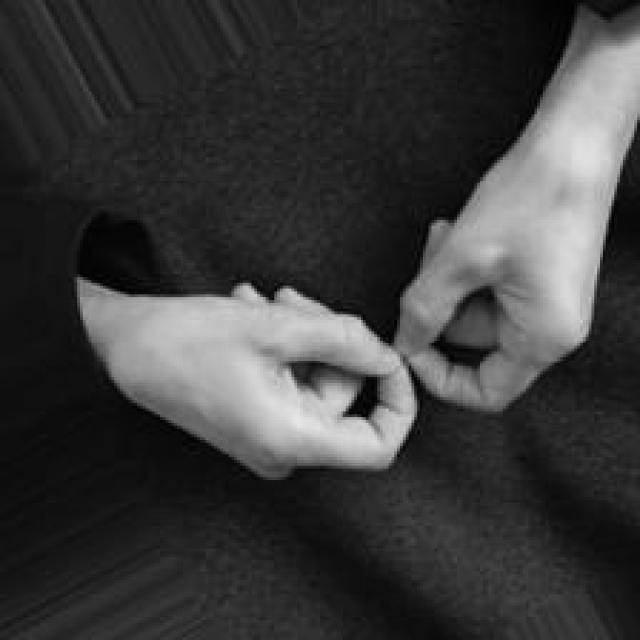B: (134, 129, 608, 482)
